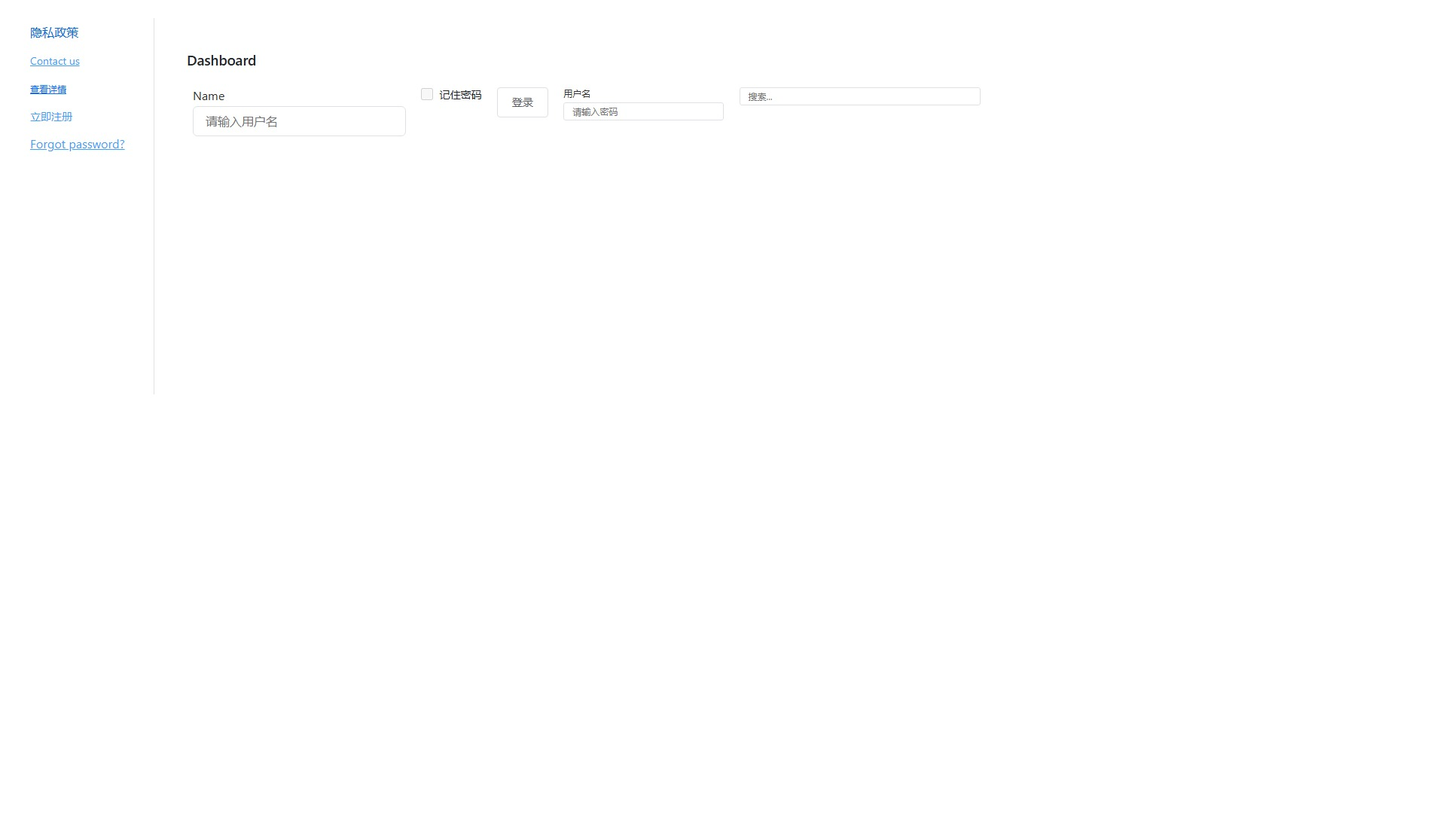button: (497, 87, 548, 117)
checkbox: (421, 88, 433, 100)
icon: (439, 87, 482, 101)
input: (193, 106, 406, 136), (739, 87, 980, 105), (563, 102, 724, 120)
link: (30, 136, 125, 151), (30, 24, 78, 40), (30, 53, 80, 68), (30, 109, 72, 123), (30, 83, 66, 95)
radio: (421, 87, 482, 101)
